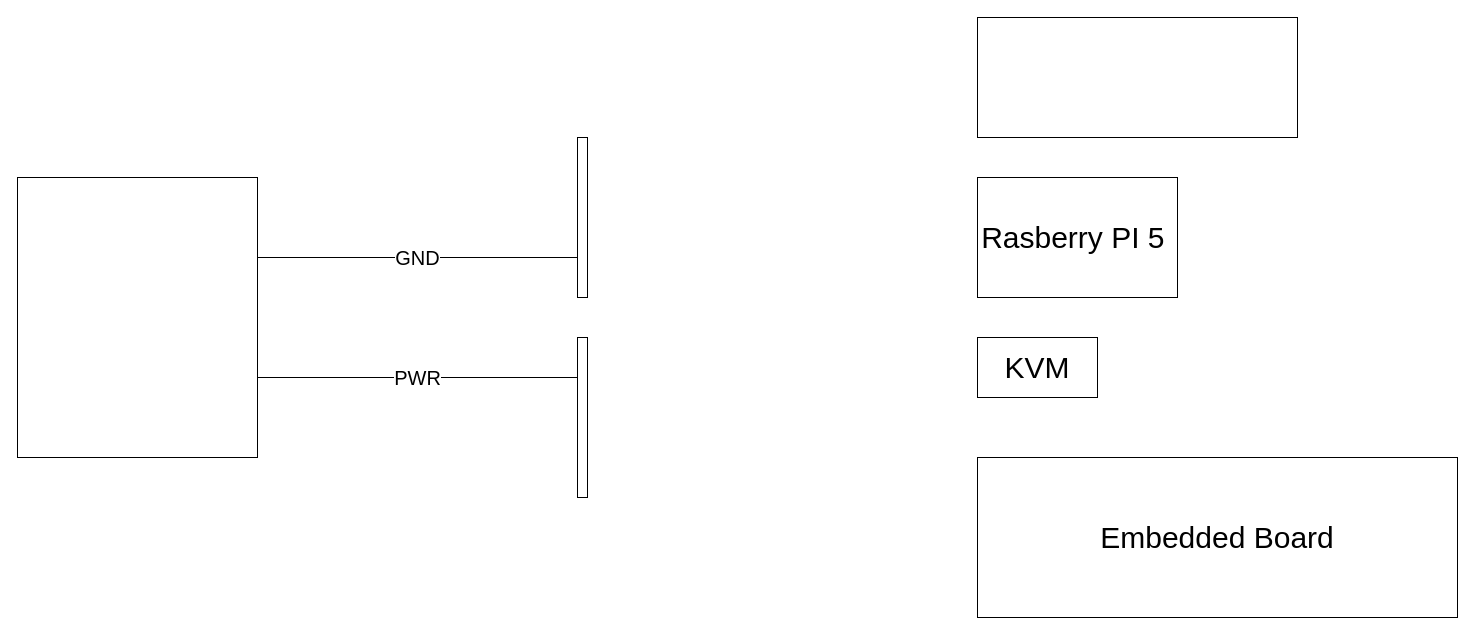
Image size: 1475x635. Some labels were removed from this diagram. The centre of each missing label's shape, as x and y in pixels:
Battery: point (137, 317)
Keyboard: point (1137, 77)
